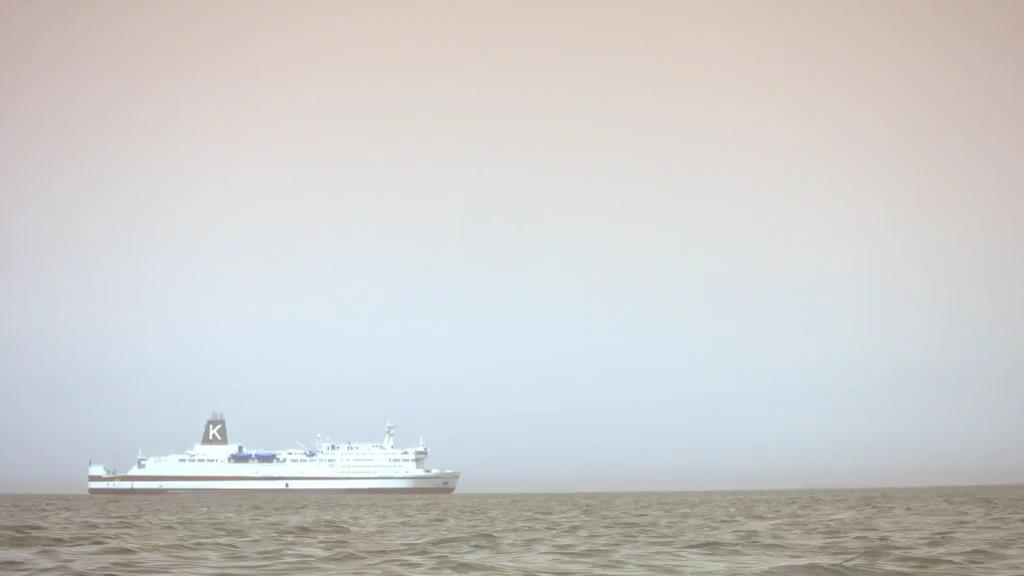PassengerShip: (76, 405, 472, 503)
